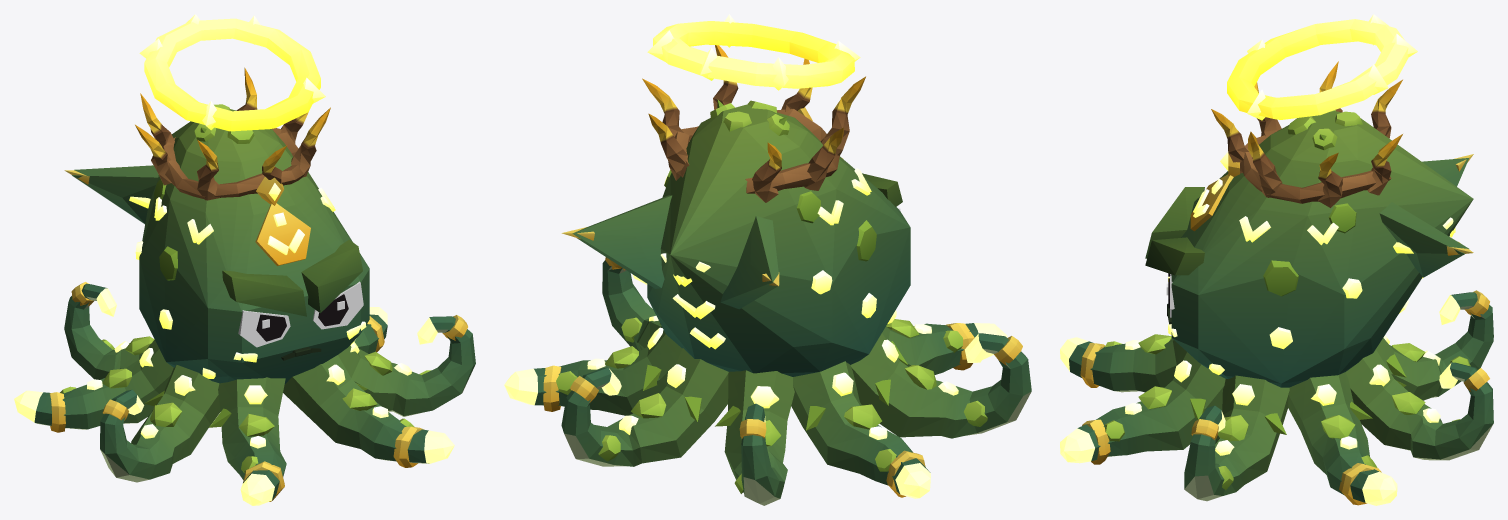
Rendered from BogBehemoth.glb.
3 views of the same model, side by side, from view 1: azimuth 30°, elevation 25°; view 2: azimuth 150°, elevation 25°; view 3: azimuth 270°, elevation 25° (orthographic). The views are drawn at different scales.
Parts seen in each view (by area): view 1: BogBehemoth; view 2: BogBehemoth; view 3: BogBehemoth.
Boxes of the visible parts, bbox=[...] form: BogBehemoth: bbox=[14, 14, 475, 505]; BogBehemoth: bbox=[504, 14, 1031, 505]; BogBehemoth: bbox=[1060, 14, 1493, 505].
Size of the model in its own units: 1.37 by 1.32 by 1.31.
1 material, 1 textured.
